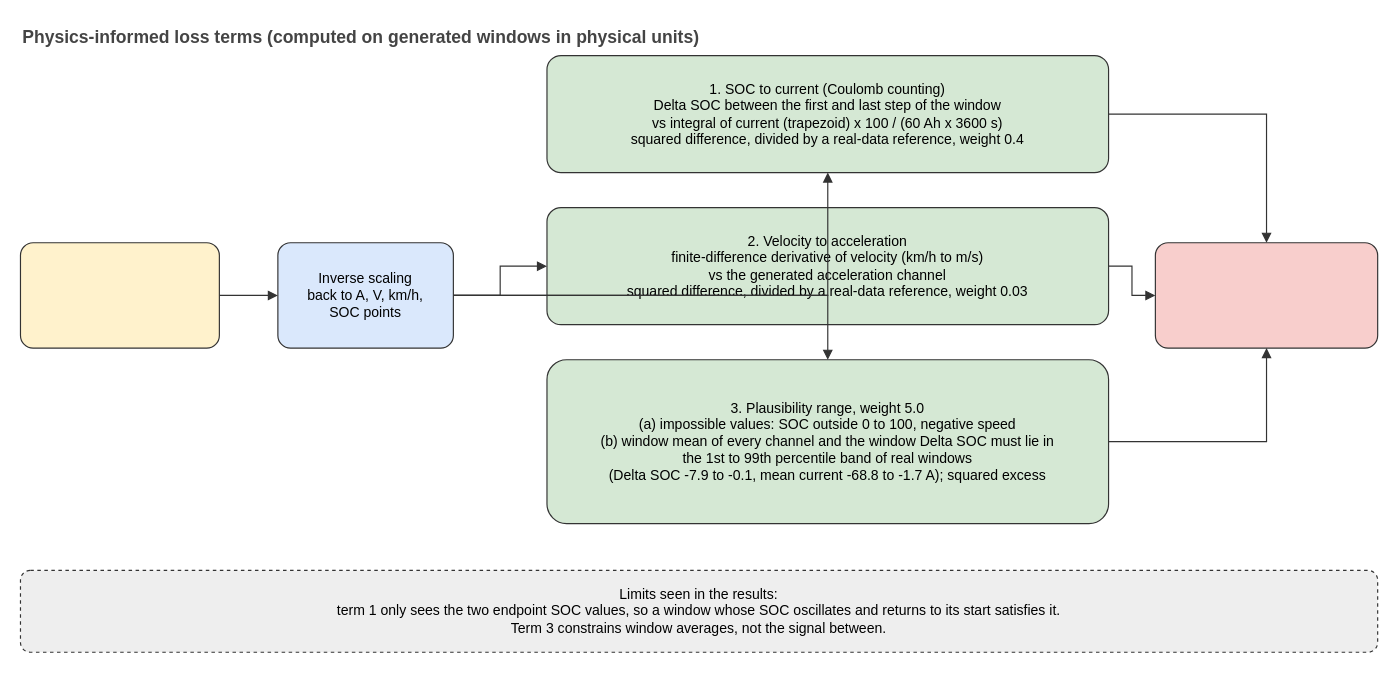
The diagram is 1398 pixels wide and 673 high, and some of its shapes have lost their labels. The shapes that lost their labels are listed below. From the top down, each one's box as (x1, y1, x2, y2) in pixels, then its label:
(19, 242, 219, 348): Generated window (256 time steps, 14 channels) scaled values
(1154, 242, 1378, 348): Added to the CycleGAN generator loss
